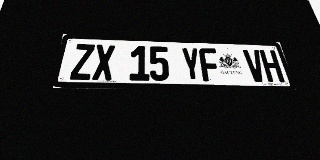1: (130, 46, 150, 81)
5: (149, 46, 170, 81)
F: (198, 48, 221, 82)
H: (259, 50, 285, 82)
V: (242, 49, 268, 82)
X: (92, 44, 115, 80)
Y: (180, 47, 202, 81)
Z: (70, 44, 95, 80)
